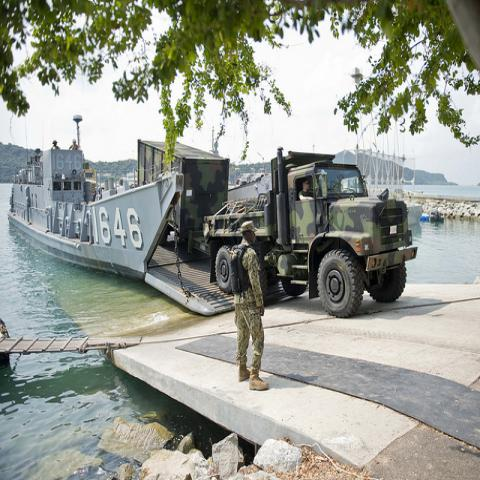truck: (135, 138, 418, 316)
